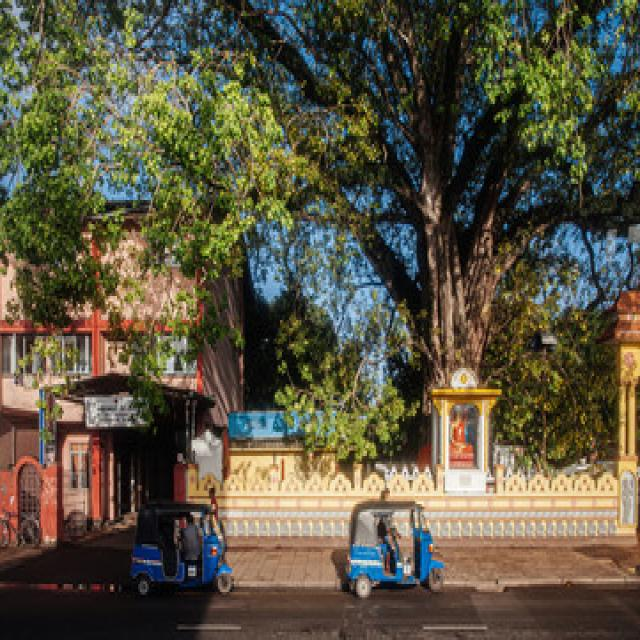three wheeler: (346, 501, 441, 600), (131, 507, 232, 595)
